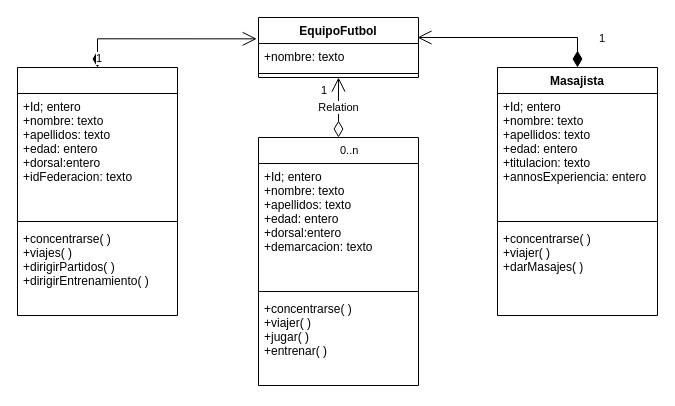
Some shapes in this 675 by 406 pixel diagram are drawn without their labels. Each missing label, with the box of its shape:
Entrenador: (16, 66, 178, 316)
Futbolista: (258, 136, 418, 386)
